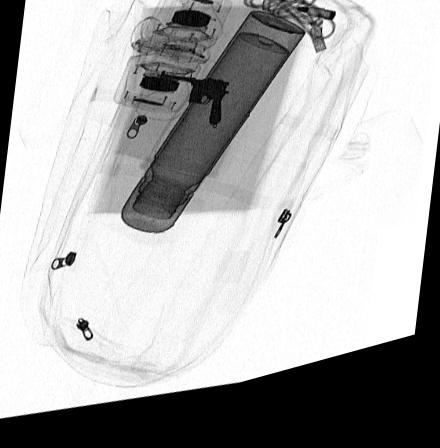Bullet: (293, 23, 334, 38)
Gun: (157, 81, 229, 138)
